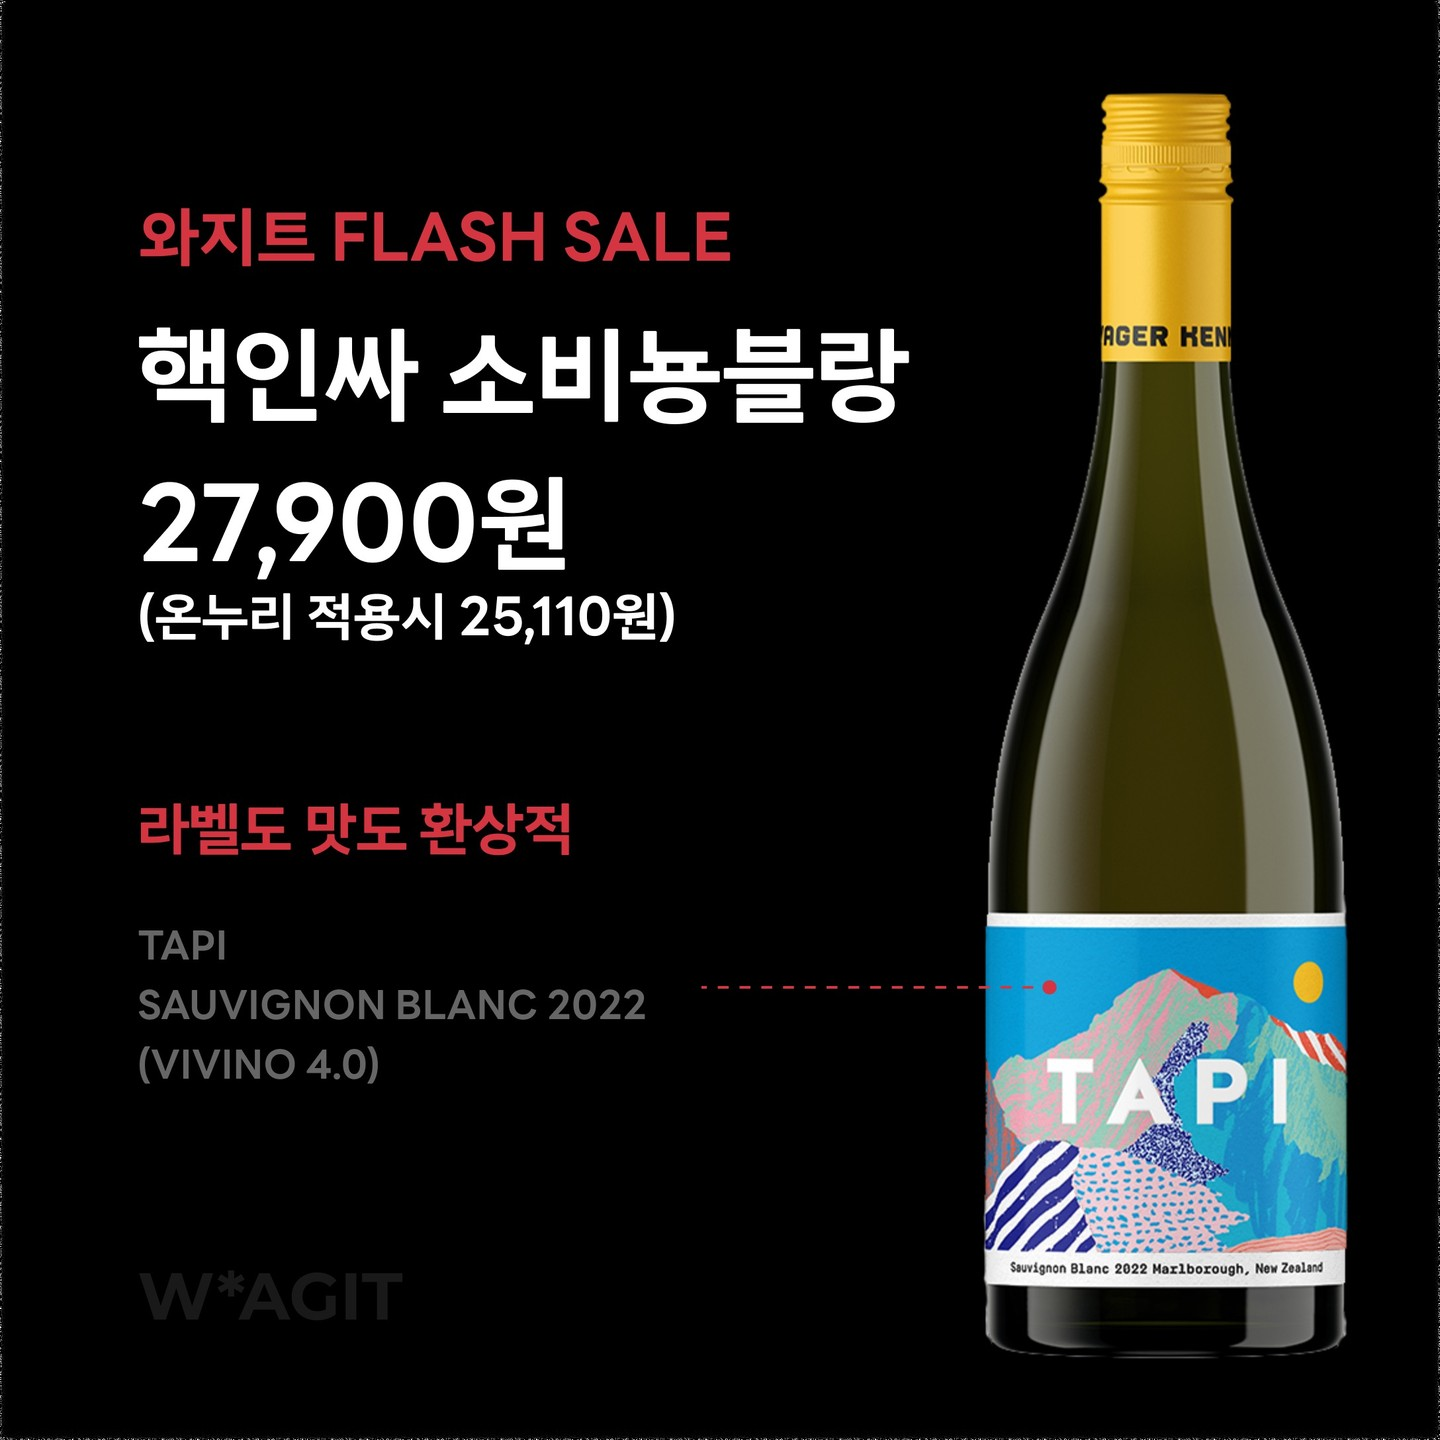alcohol: (971, 84, 1356, 1374)
